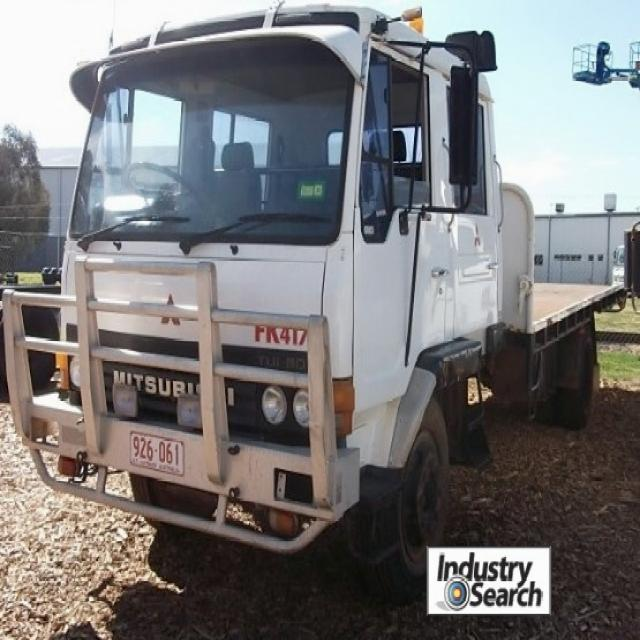truck: (1, 1, 617, 559)
